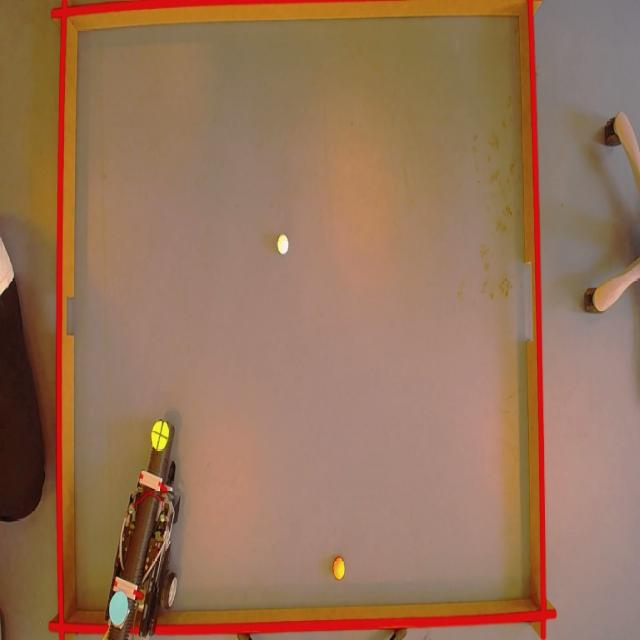orange: (332, 559, 347, 581)
robot: (75, 414, 189, 640)
robot-front: (150, 419, 170, 452)
robot-rear: (109, 594, 129, 622)
white: (275, 233, 289, 255)
